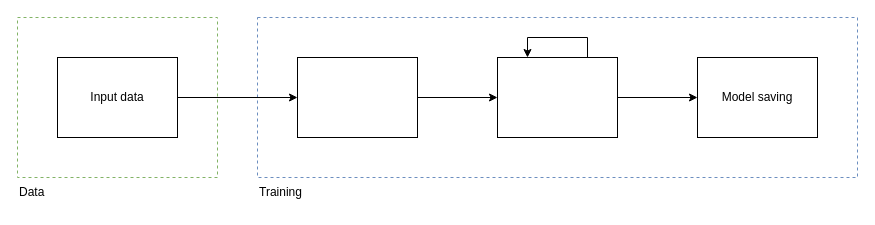
This 875x225 diagram has some shape labels left out. Here are the shapes that lost their labels. From the top down, the centre of each, then its label:
At (x=357, y=97): "Preprocessing".
At (x=557, y=97): "Training loop".
